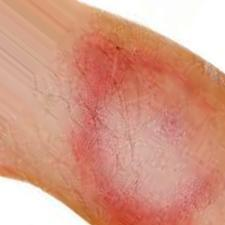Tick: (73, 43, 224, 224)
